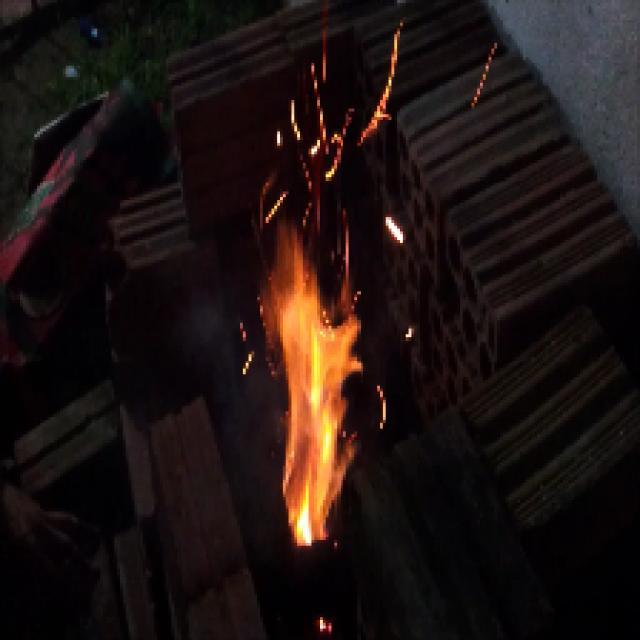Fire: (257, 177, 357, 552)
Smoke: (171, 260, 280, 489)
